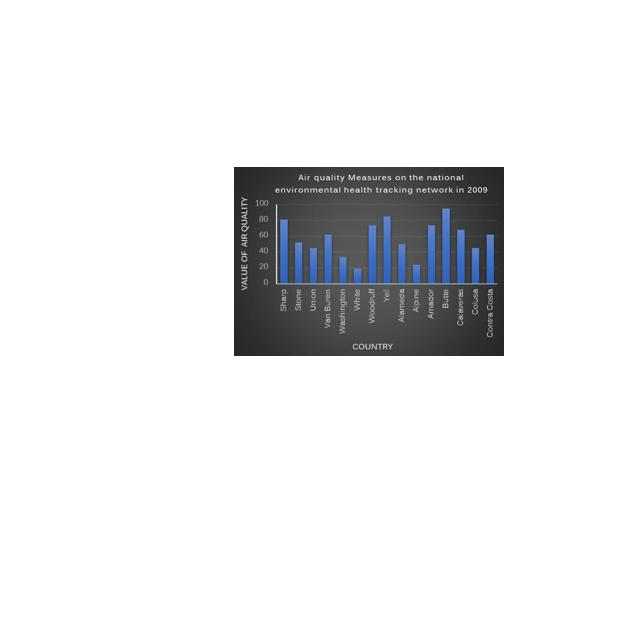Graph: (234, 167, 504, 356)
